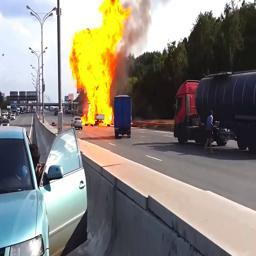fire: (70, 1, 130, 126)
